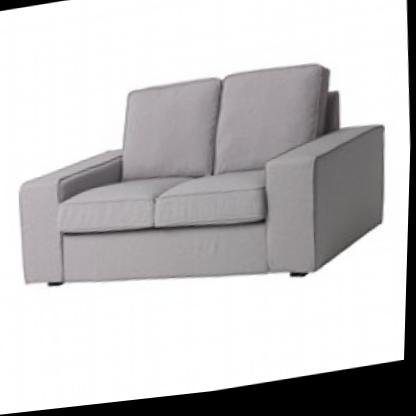Sofa: (6, 32, 397, 338)
